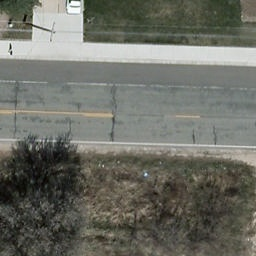car: (68, 0, 82, 17)
